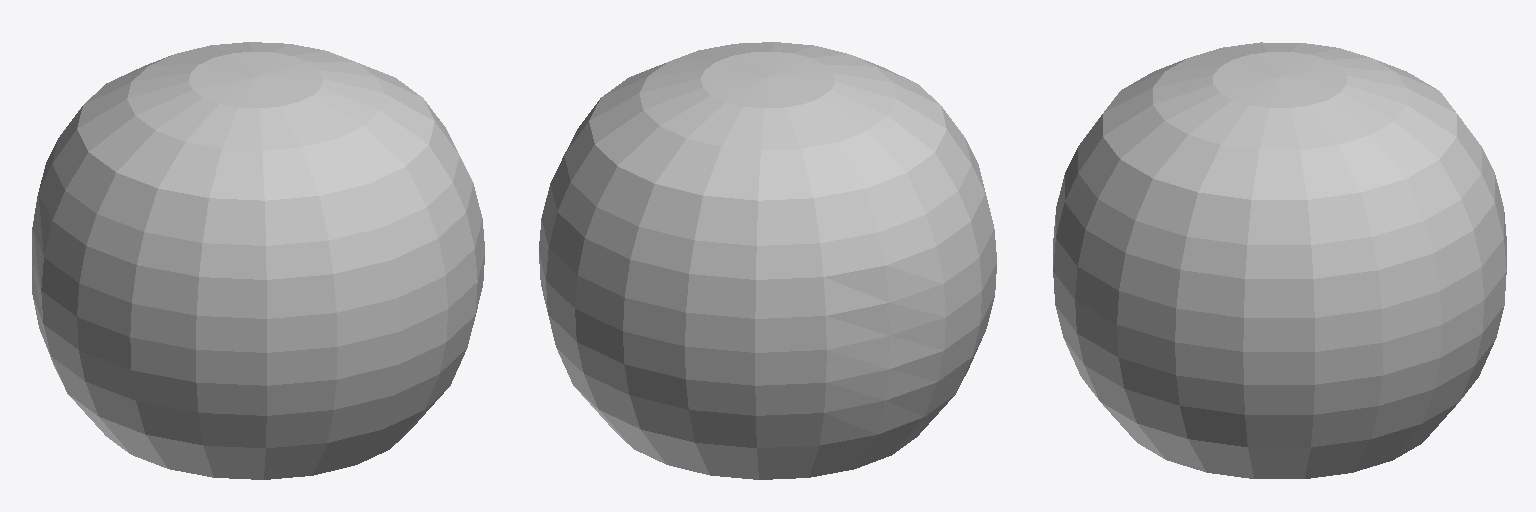
File: pump base.obj
3 views of the same model, side by side, from view 1: azimuth 30°, elevation 25°; view 2: azimuth 150°, elevation 25°; view 3: azimuth 270°, elevation 25° (orthographic).
Parts seen in each view (by area): view 1: pumpkin; view 2: pumpkin; view 3: pumpkin.
Part boxes in pixels (x1,y1,x2,y2): pumpkin: (32,42,484,479); pumpkin: (539,42,996,479); pumpkin: (1053,42,1506,478).
Bounding box in the file's own units: 155 × 135 × 155.